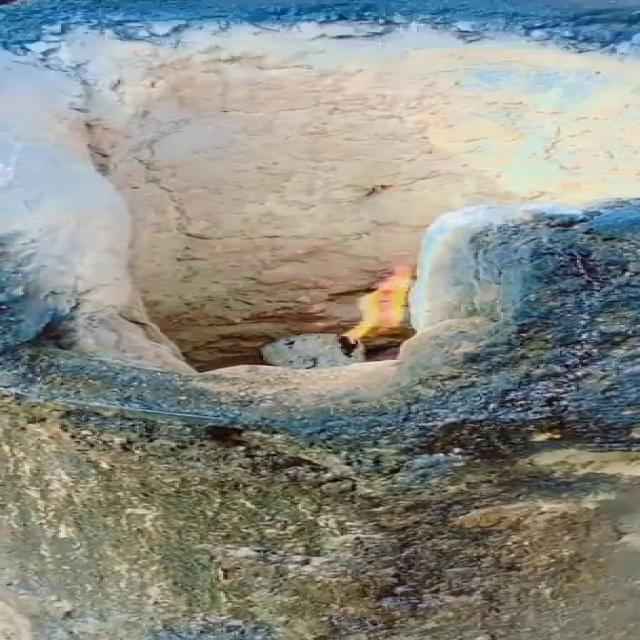Fire: (331, 230, 421, 364)
